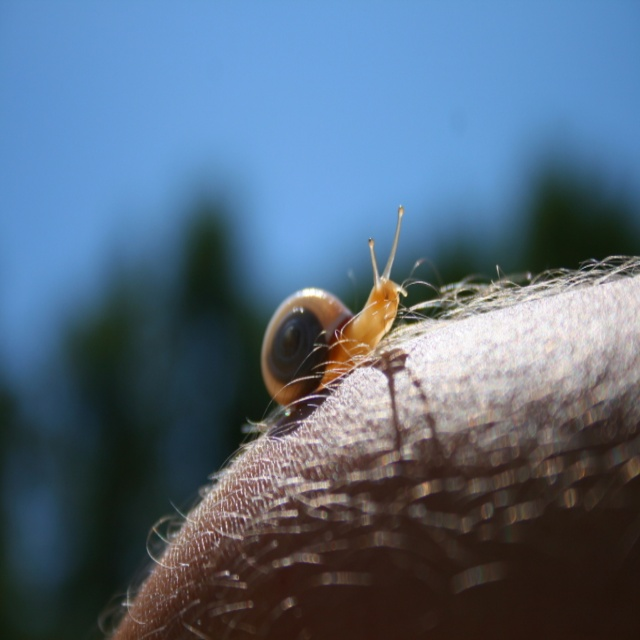Snail: (255, 203, 411, 433)
